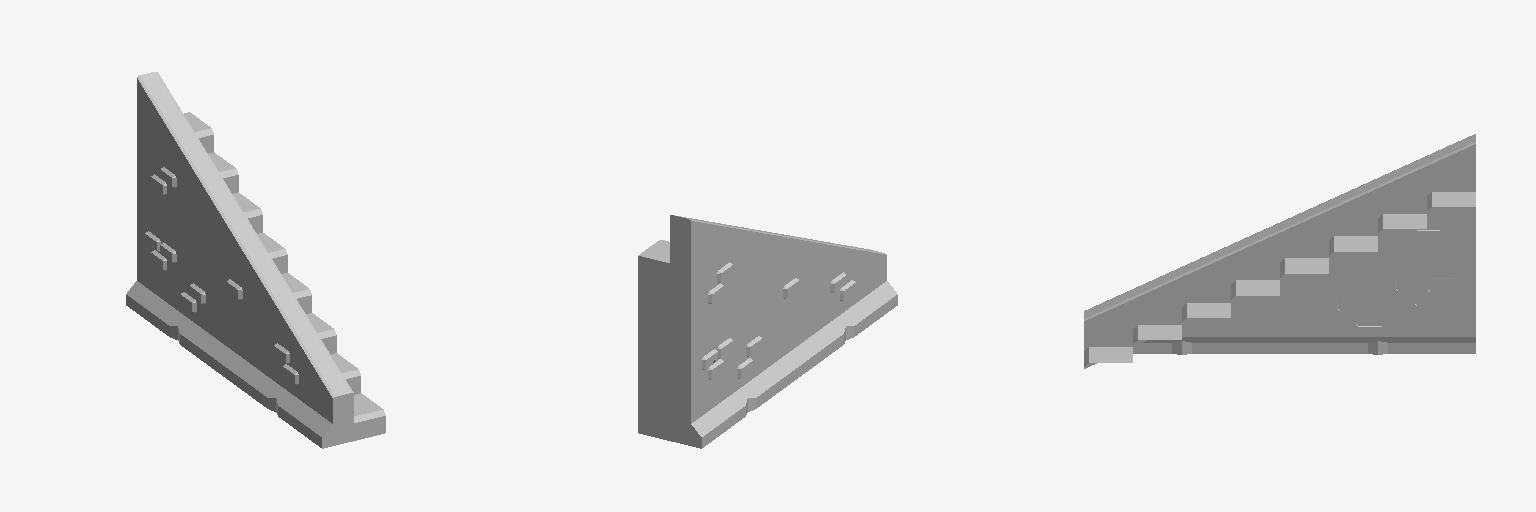
The model's file is stairs_long_modular_left.obj.
3 renders of one model, left to right at view 1: azimuth 30°, elevation 25°; view 2: azimuth 150°, elevation 25°; view 3: azimuth 270°, elevation 25°, orthographic.
Parts seen in each view (by area): view 1: stairs_long_modular_left; view 2: stairs_long_modular_left; view 3: stairs_long_modular_left.
Boxes of the visible parts, x1,y1,x2,y2 form: stairs_long_modular_left: [126, 72, 385, 448]; stairs_long_modular_left: [638, 215, 897, 448]; stairs_long_modular_left: [1084, 134, 1475, 368].
Size of the model in its own units: 1.5 by 5.1 by 8.